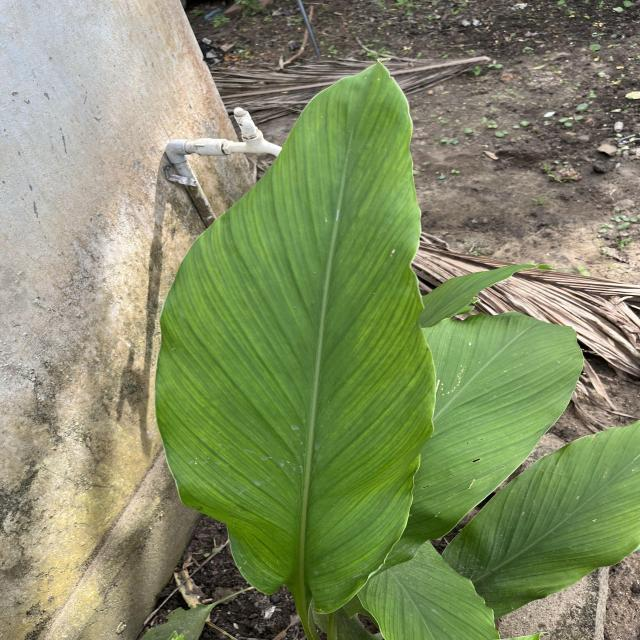Curcuma longa: (148, 48, 444, 624)
